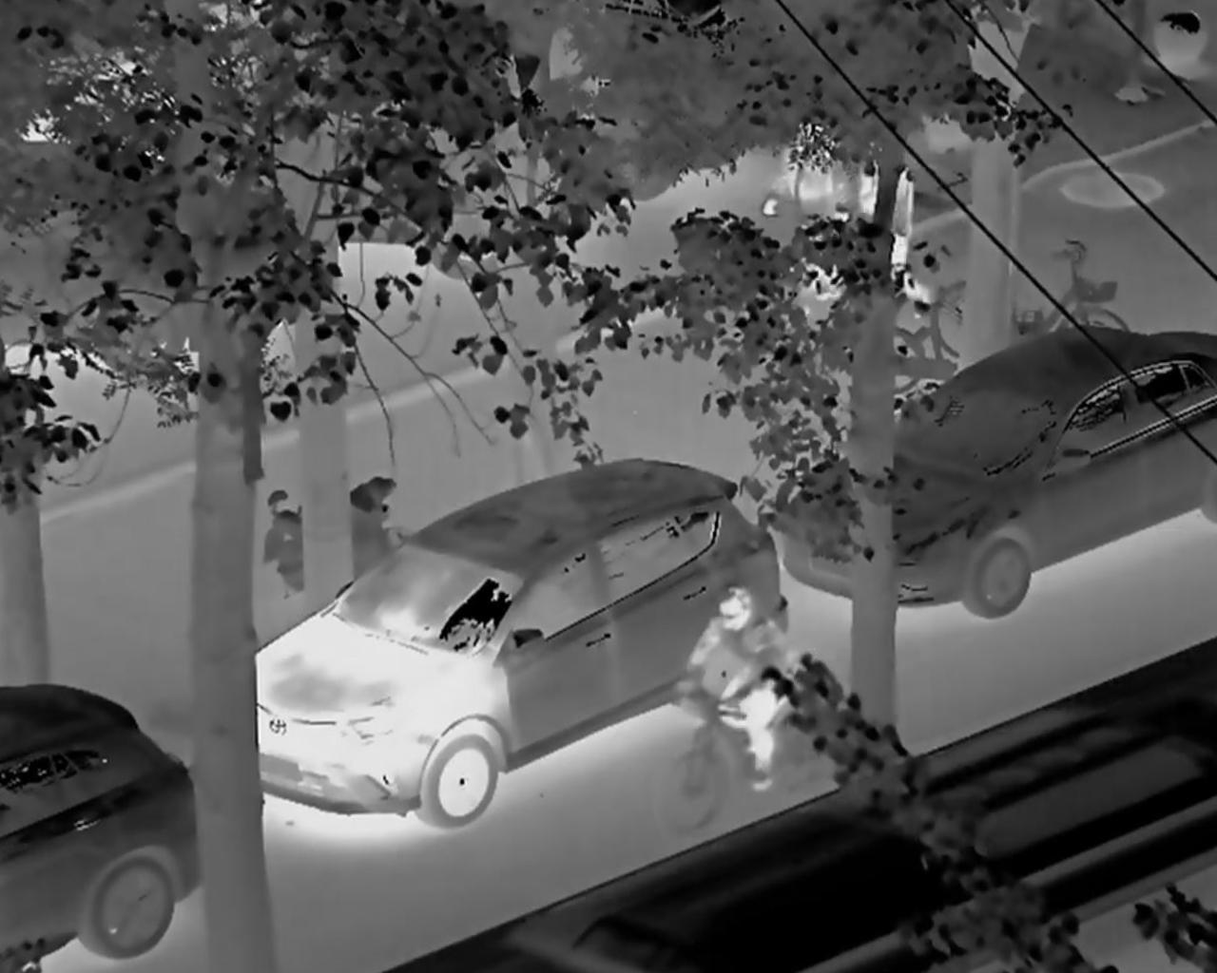person: (674, 568, 827, 813), (771, 93, 857, 305)
